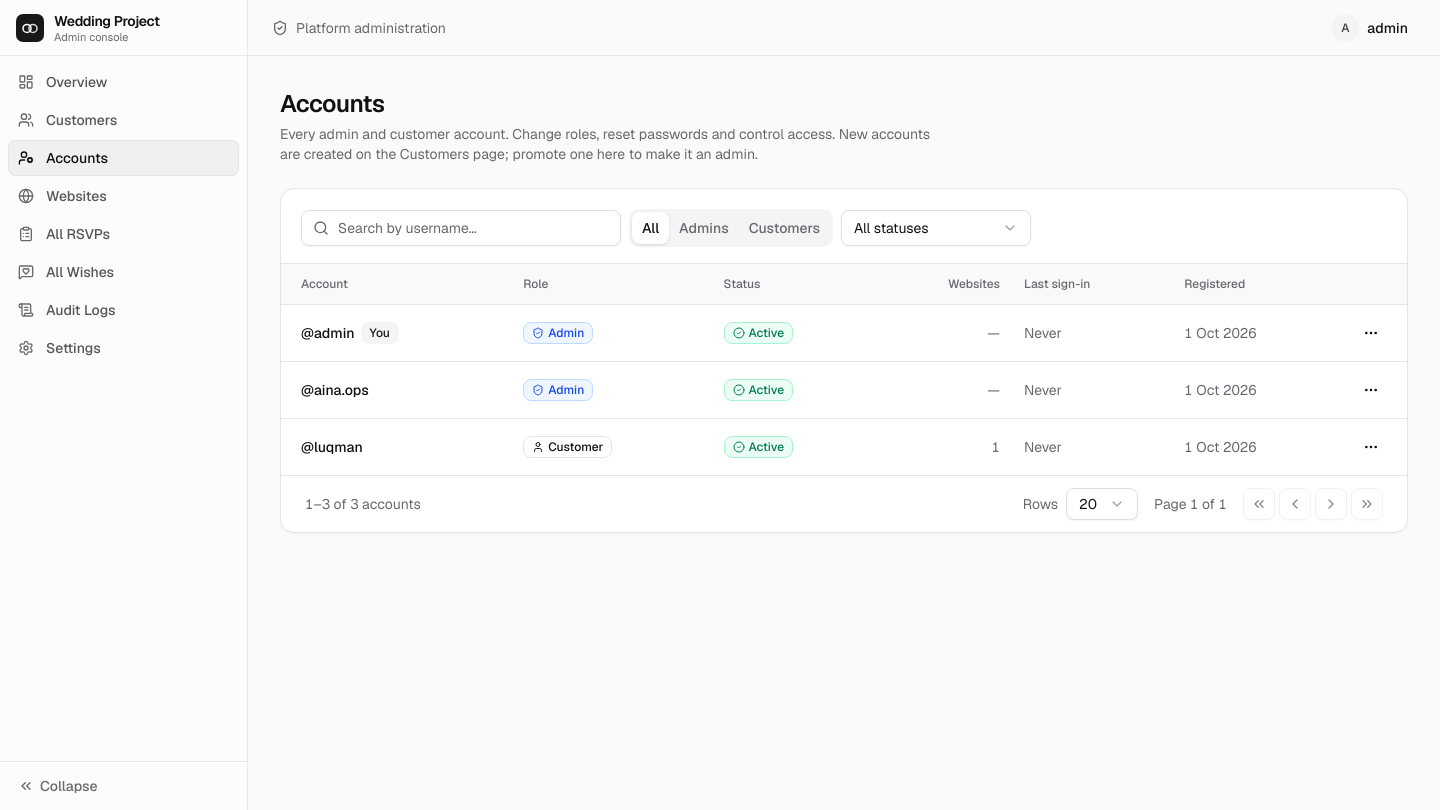
Scenario: Admin accounts page › does not offer role, password or disable actions on your own account
This screenshot has width=1440, height=810.
Click the button named "actions for admin": coordinates (1371, 332) [1355,316,1387,348]
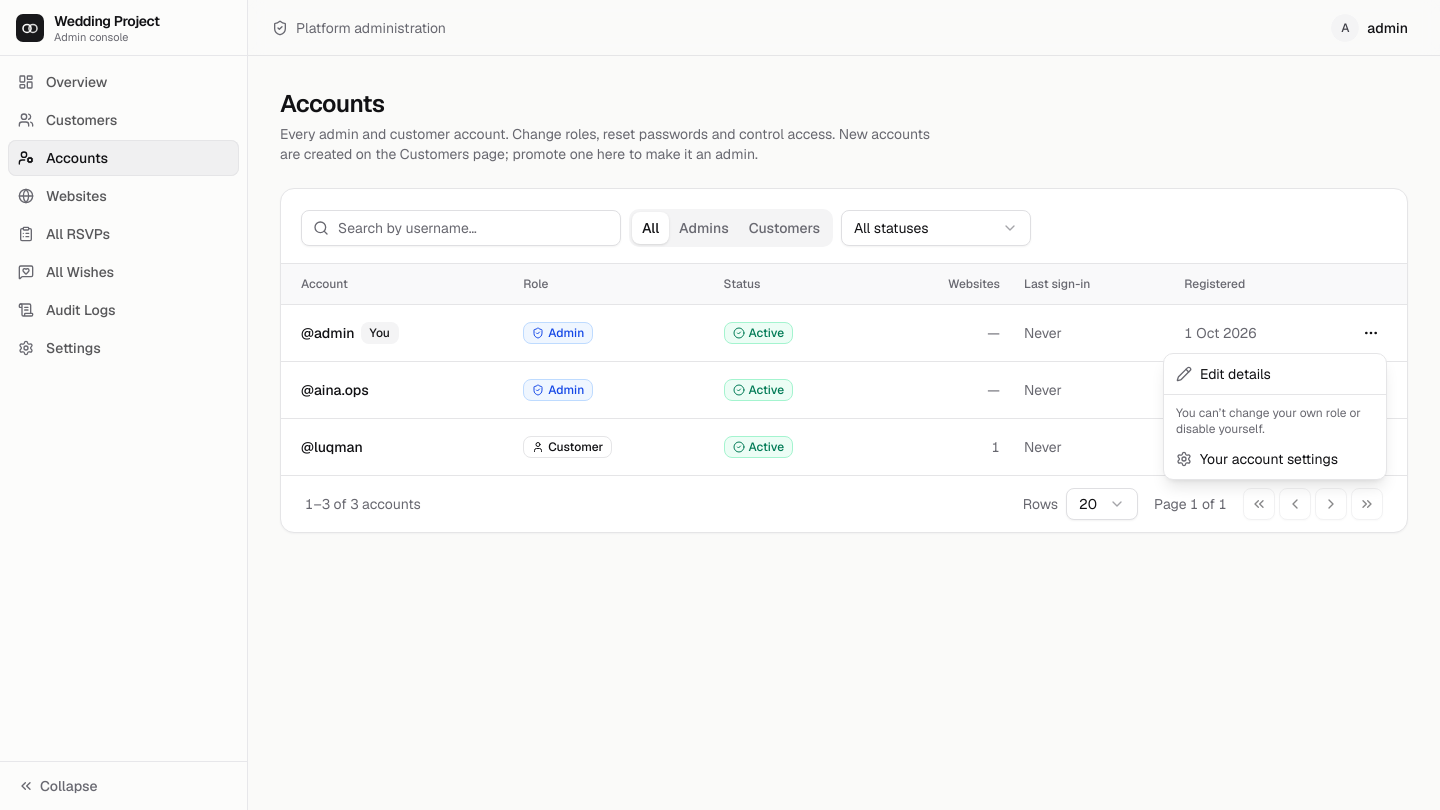
Expected: the menu item "Edit details" is shown, [1176,365,1271,383]
Expected: the text "You can’t change your own role or disable yourself." is shown, [1168,399,1382,443]
